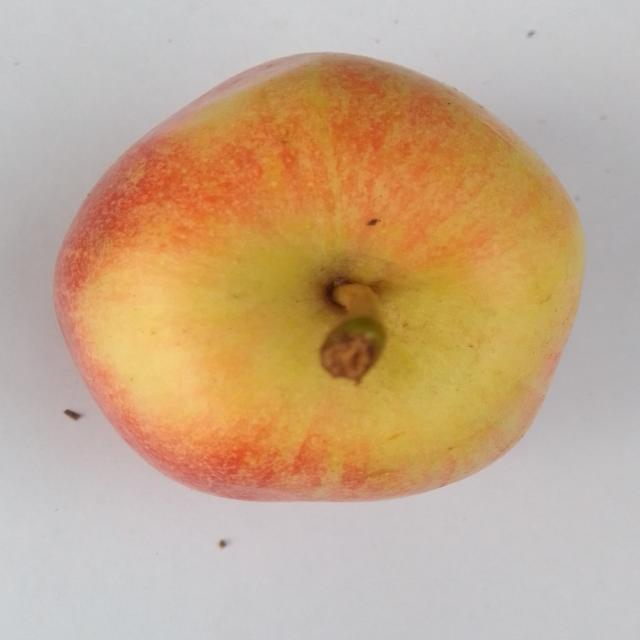Fresh Apple: (50, 53, 593, 515)
